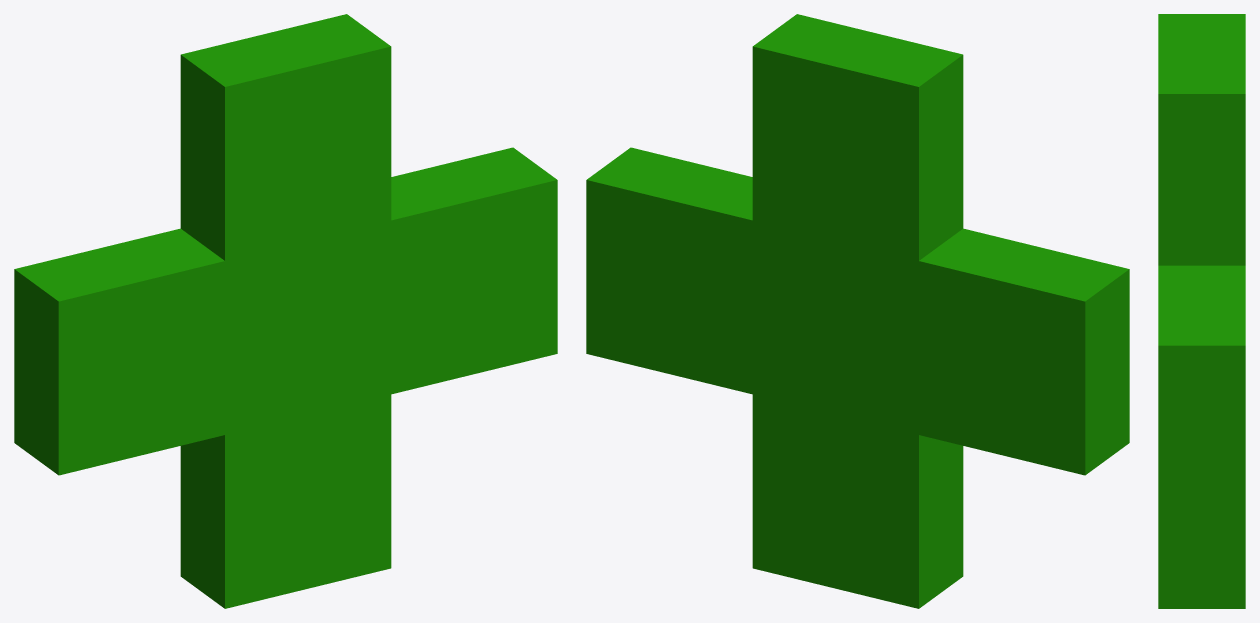
File: Health Plus.fbx
The picture shows the model from 3 angles, left to right: view 1: azimuth 30°, elevation 25°; view 2: azimuth 150°, elevation 25°; view 3: azimuth 270°, elevation 25°; orthographic projection.
Visible parts, largest first — view 1: Cube; view 2: Cube; view 3: Cube.
Boxes of the visible parts, left/top/right/bottom form: Cube: left=14, top=14, right=557, bottom=608; Cube: left=586, top=14, right=1129, bottom=608; Cube: left=1158, top=14, right=1245, bottom=608.
Size of the model in its own units: 200 by 200 by 30.82.
